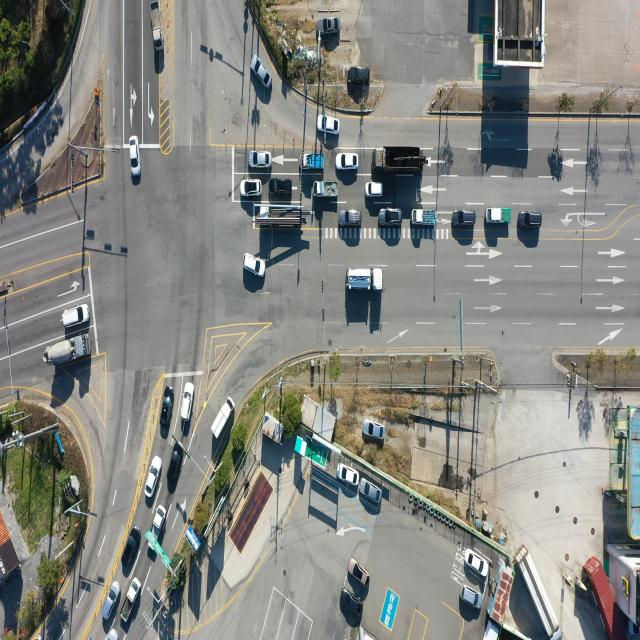car: (123, 529, 142, 572), (166, 442, 182, 490), (341, 588, 362, 623), (145, 456, 162, 499), (102, 580, 120, 620), (62, 305, 90, 329), (254, 56, 273, 90), (465, 550, 487, 578), (460, 586, 483, 611), (243, 252, 265, 278), (350, 559, 370, 587), (359, 479, 381, 504), (162, 385, 174, 430), (184, 380, 197, 419), (337, 463, 360, 485), (130, 135, 142, 176), (379, 207, 403, 227), (340, 209, 364, 228), (320, 116, 341, 137), (362, 420, 384, 440), (519, 211, 543, 228), (336, 152, 358, 170), (241, 179, 263, 197), (454, 210, 476, 228), (270, 178, 293, 195), (350, 66, 370, 85), (251, 150, 273, 167), (322, 18, 340, 35), (364, 181, 383, 197), (107, 627, 117, 640)
medium_truck: (518, 546, 562, 638), (44, 333, 90, 369), (372, 144, 424, 175), (260, 204, 302, 232), (346, 268, 382, 292)
small_truck: (120, 576, 142, 627), (212, 398, 234, 442), (147, 505, 168, 549), (150, 2, 165, 54), (412, 209, 437, 227), (313, 180, 337, 198), (486, 207, 509, 224), (304, 155, 326, 171)
